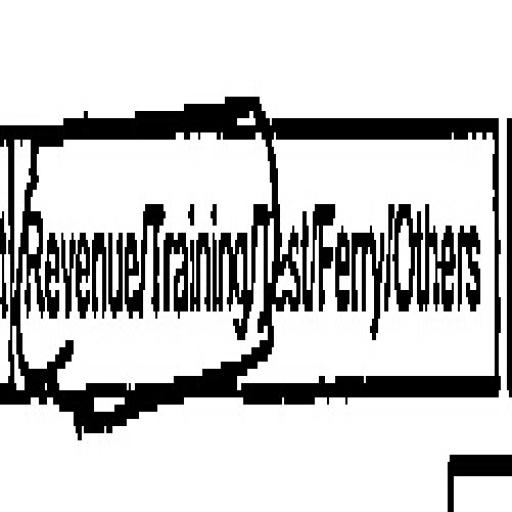check: (8, 70, 140, 473), (145, 70, 257, 483)
